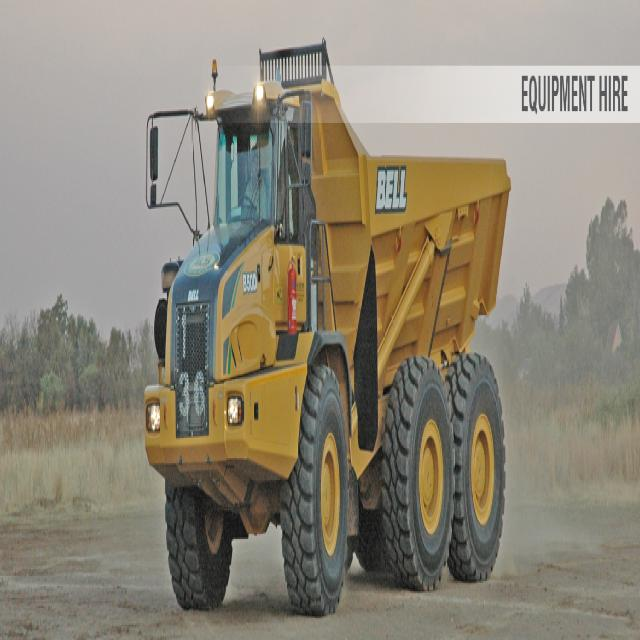dump_truck: (144, 47, 518, 638)
